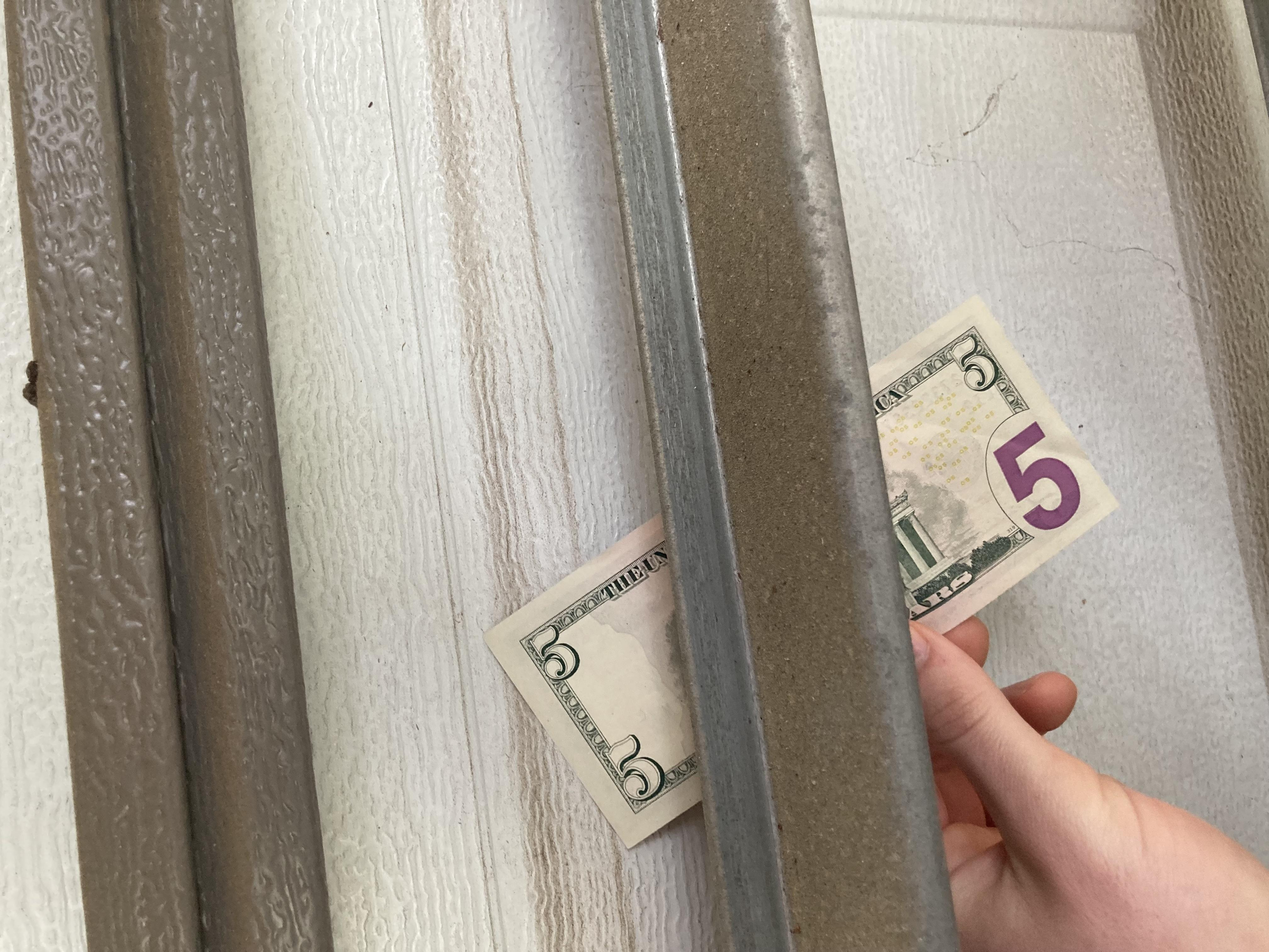five-back: (135, 361, 879, 842)
